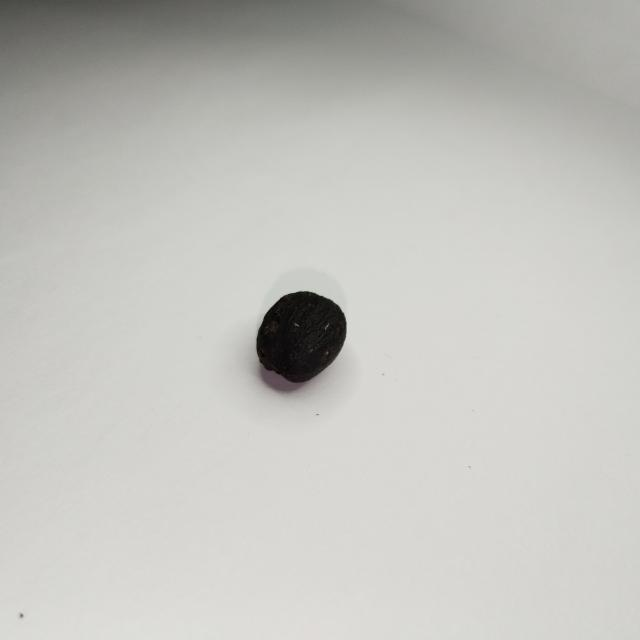Danado: (256, 291, 346, 383)
